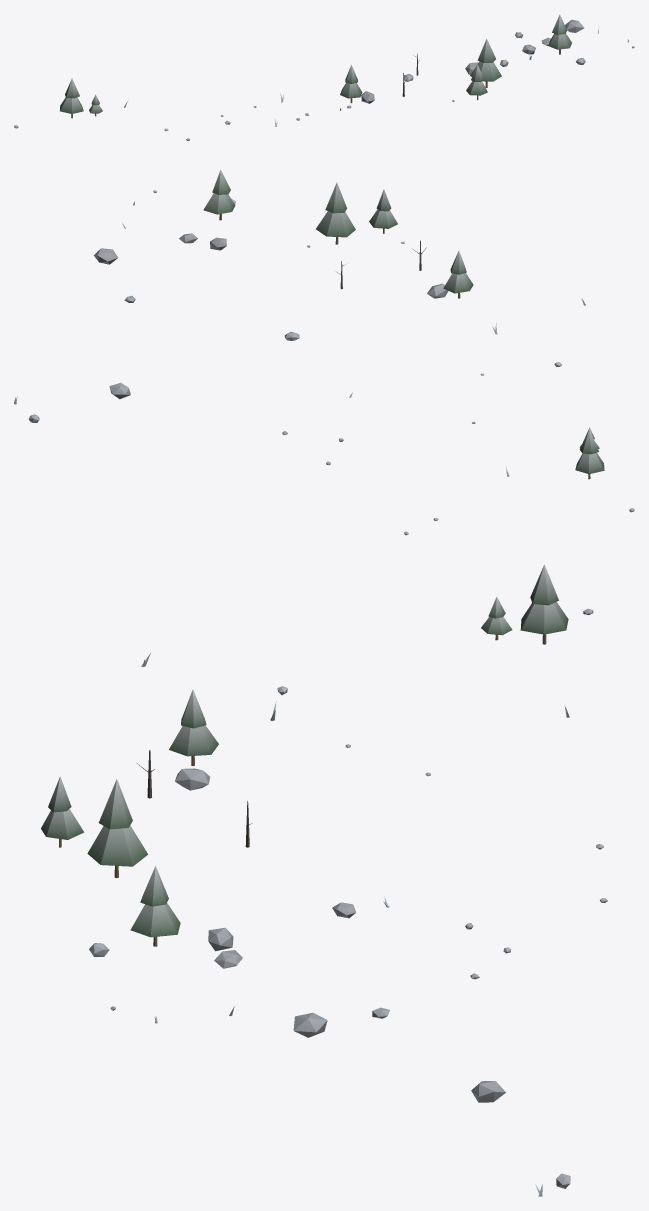
The model's file is frost_land_scatter_c18_08_lod1.glb.
3 renders of one model, top to bottom at view 1: azimuth 30°, elevation 25°; view 2: azimuth 150°, elevation 25°; view 3: azimuth 270°, elevation 25°, orthographic. The views are drawn at different scales.
Parts seen in each view (by area): view 1: frost_land_scatter_c18_08_lod1; view 2: frost_land_scatter_c18_08_lod1; view 3: frost_land_scatter_c18_08_lod1.
Boxes of the visible parts, bbox=[...] form: frost_land_scatter_c18_08_lod1: bbox=[14, 14, 634, 140]; frost_land_scatter_c18_08_lod1: bbox=[14, 170, 634, 535]; frost_land_scatter_c18_08_lod1: bbox=[41, 564, 607, 1196].
Bounding box in the file's own units: 170 × 47.57 × 82.43.
